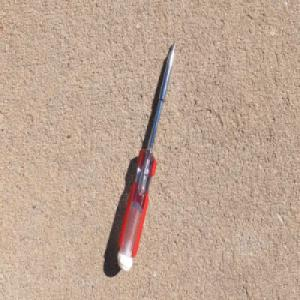Screwdriver: (116, 39, 176, 273)
